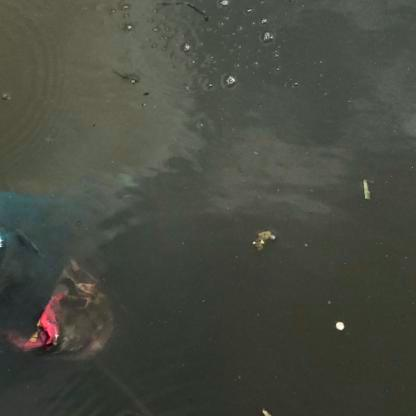Trash: (1, 259, 107, 371)
